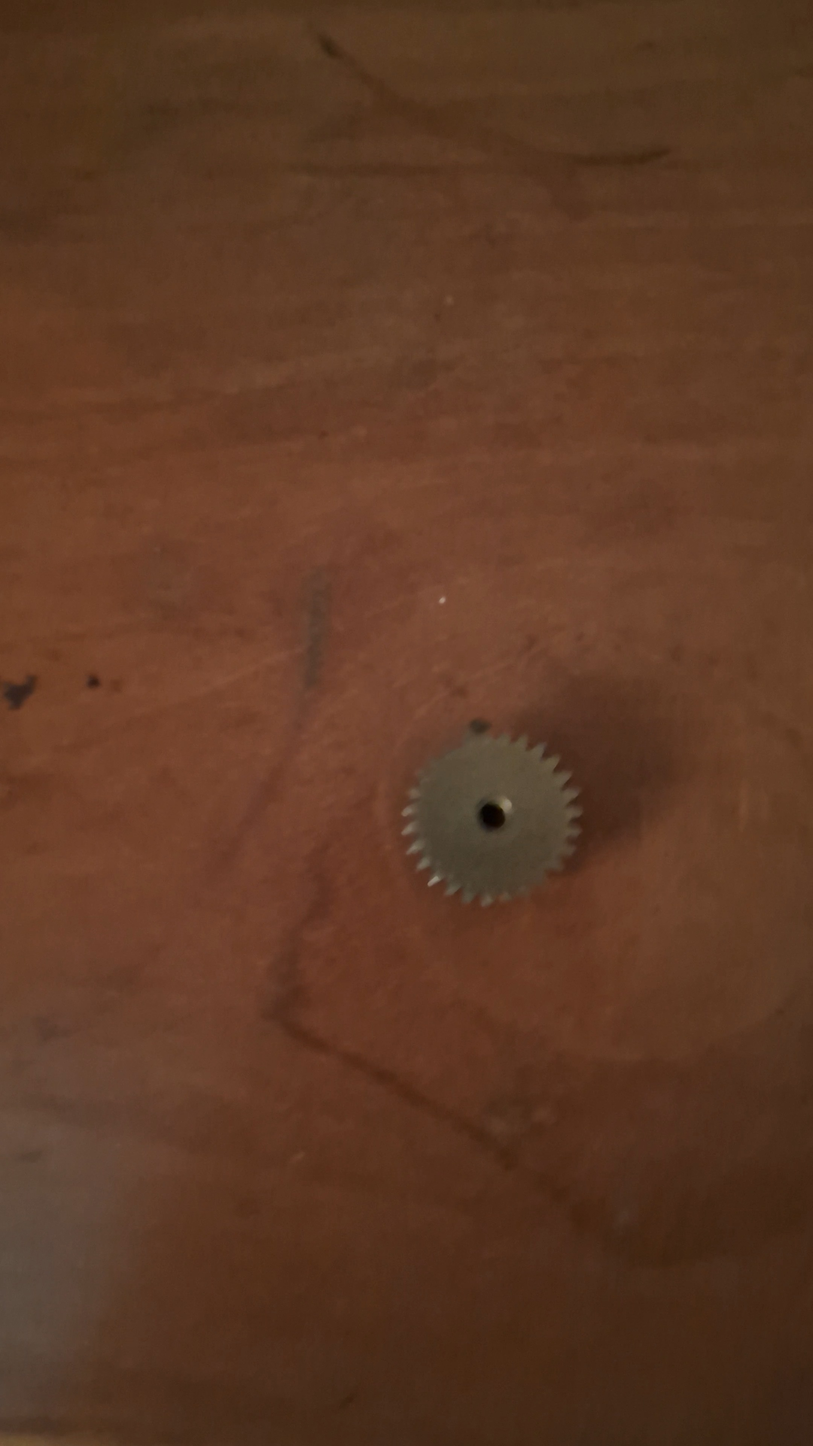spur gear: (403, 725, 581, 905)
